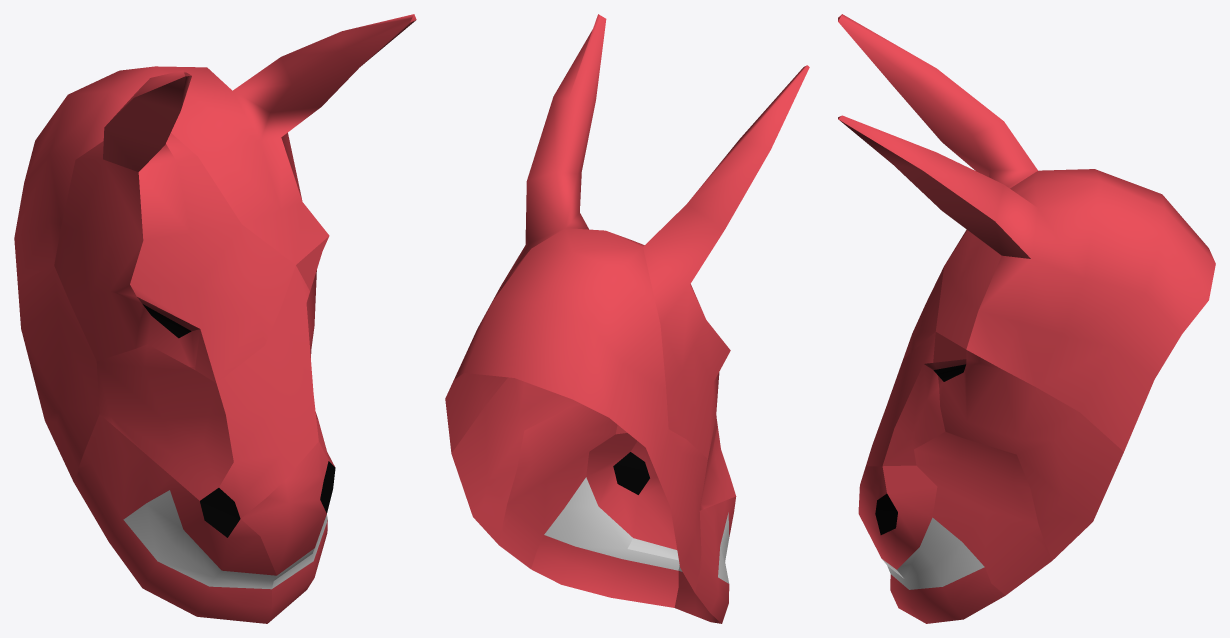
The model's file is DonkeyManMaskShattered.fbx.
The picture shows the model from 3 angles, left to right: view 1: azimuth 30°, elevation 25°; view 2: azimuth 150°, elevation 25°; view 3: azimuth 270°, elevation 25°; orthographic projection. The views are drawn at different scales.
Parts seen in each view (by area): view 1: DonkeyMask_Shard03, DonkeyMask_Shard00, DonkeyMask_Shard08, DonkeyMask_Shard02, DonkeyMask_Shard01, DonkeyMask_Shard04, DonkeyMask_Shard05, DonkeyMask_Shard06; view 2: DonkeyMask_Shard00, DonkeyMask_Shard03, DonkeyMask_Shard05, DonkeyMask_Shard07, DonkeyMask_Shard06, DonkeyMask_Shard04, DonkeyMask_Shard01, DonkeyMask_Shard02, DonkeyMask_Shard08; view 3: DonkeyMask_Shard00, DonkeyMask_Shard06, DonkeyMask_Shard07, DonkeyMask_Shard03, DonkeyMask_Shard05, DonkeyMask_Shard04, DonkeyMask_Shard08.
Part boxes in pixels (x1=…): DonkeyMask_Shard03: x1=54, y1=70, x2=295, y2=382; DonkeyMask_Shard00: x1=14, y1=14, x2=416, y2=480; DonkeyMask_Shard08: x1=96, y1=265, x2=318, y2=518; DonkeyMask_Shard02: x1=73, y1=414, x2=276, y2=623; DonkeyMask_Shard01: x1=17, y1=266, x2=99, y2=481; DonkeyMask_Shard04: x1=241, y1=419, x2=335, y2=580; DonkeyMask_Shard05: x1=267, y1=514, x2=327, y2=623; DonkeyMask_Shard06: x1=296, y1=236, x2=329, y2=352; DonkeyMask_Shard00: x1=445, y1=14, x2=699, y2=586; DonkeyMask_Shard03: x1=643, y1=65, x2=809, y2=458; DonkeyMask_Shard05: x1=531, y1=477, x2=679, y2=607; DonkeyMask_Shard07: x1=499, y1=404, x2=617, y2=568; DonkeyMask_Shard06: x1=451, y1=377, x2=582, y2=544; DonkeyMask_Shard04: x1=586, y1=433, x2=678, y2=560; DonkeyMask_Shard01: x1=658, y1=429, x2=707, y2=592; DonkeyMask_Shard02: x1=674, y1=496, x2=736, y2=623; DonkeyMask_Shard08: x1=615, y1=416, x2=735, y2=510; DonkeyMask_Shard00: x1=838, y1=115, x2=1215, y2=451; DonkeyMask_Shard06: x1=933, y1=332, x2=1123, y2=560; DonkeyMask_Shard07: x1=914, y1=431, x2=1052, y2=595; DonkeyMask_Shard03: x1=838, y1=14, x2=1037, y2=358; DonkeyMask_Shard05: x1=887, y1=517, x2=1005, y2=623; DonkeyMask_Shard04: x1=858, y1=465, x2=937, y2=578; DonkeyMask_Shard08: x1=866, y1=332, x2=945, y2=466.
Size of the model in its own units: 31.99 by 76.45 by 48.17.
